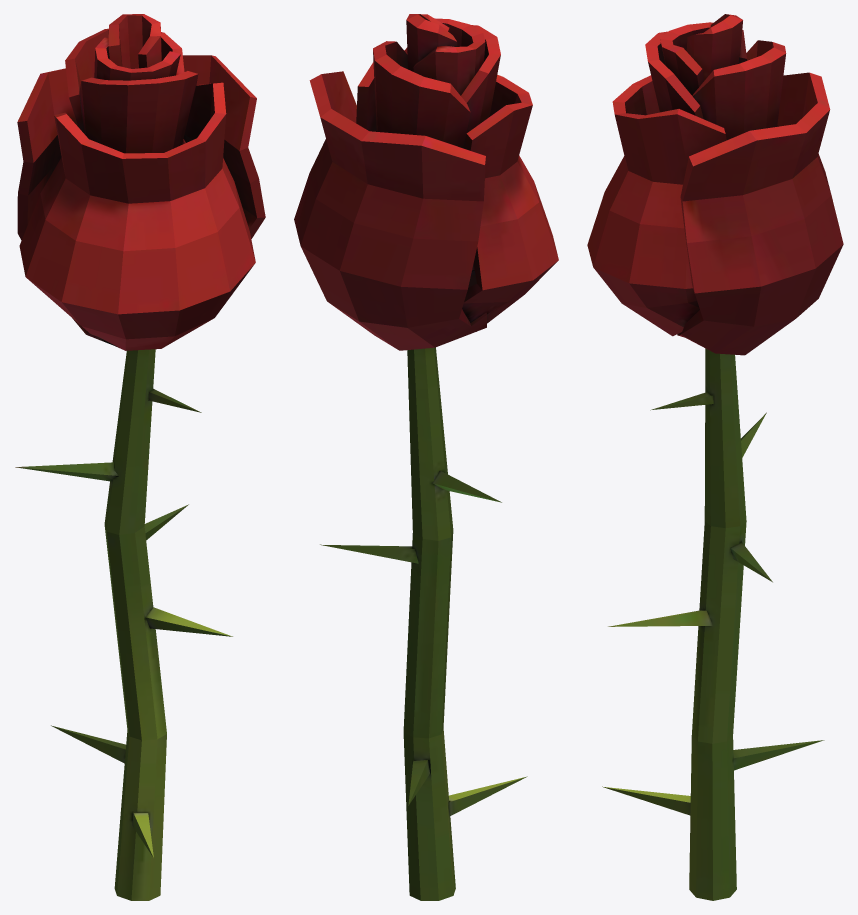
File: bRp3GPJJJoG.glb
3 views of the same model, side by side, from view 1: azimuth 30°, elevation 25°; view 2: azimuth 150°, elevation 25°; view 3: azimuth 270°, elevation 25° (orthographic).
Parts seen in each view (by area): view 1: rose; view 2: rose; view 3: rose.
Part boxes in pixels (x1,y1,x2,y2): rose: (15,14,265,900); rose: (294,14,558,900); rose: (587,14,843,900).
Size of the model in its own units: 0.2698 by 1 by 0.2654.
1 material, 1 textured.
